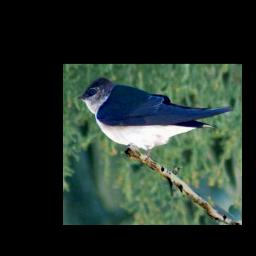Swallow: (75, 76, 234, 165)
